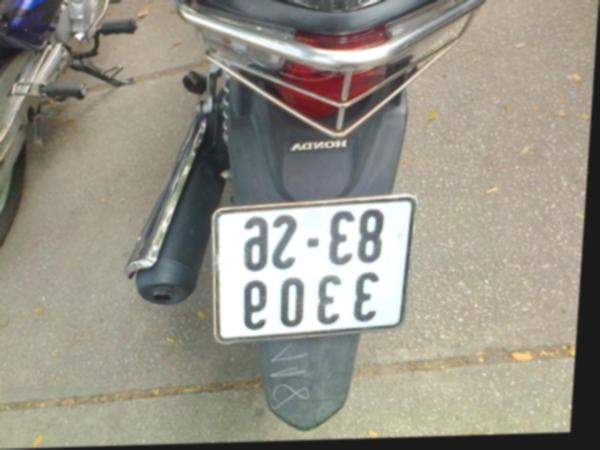License_Plate: (214, 196, 417, 344)
